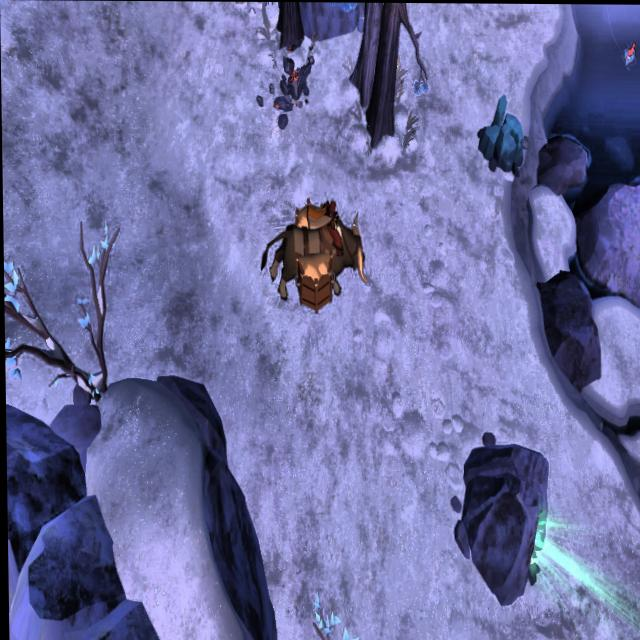rock_t4: (473, 93, 526, 177)
